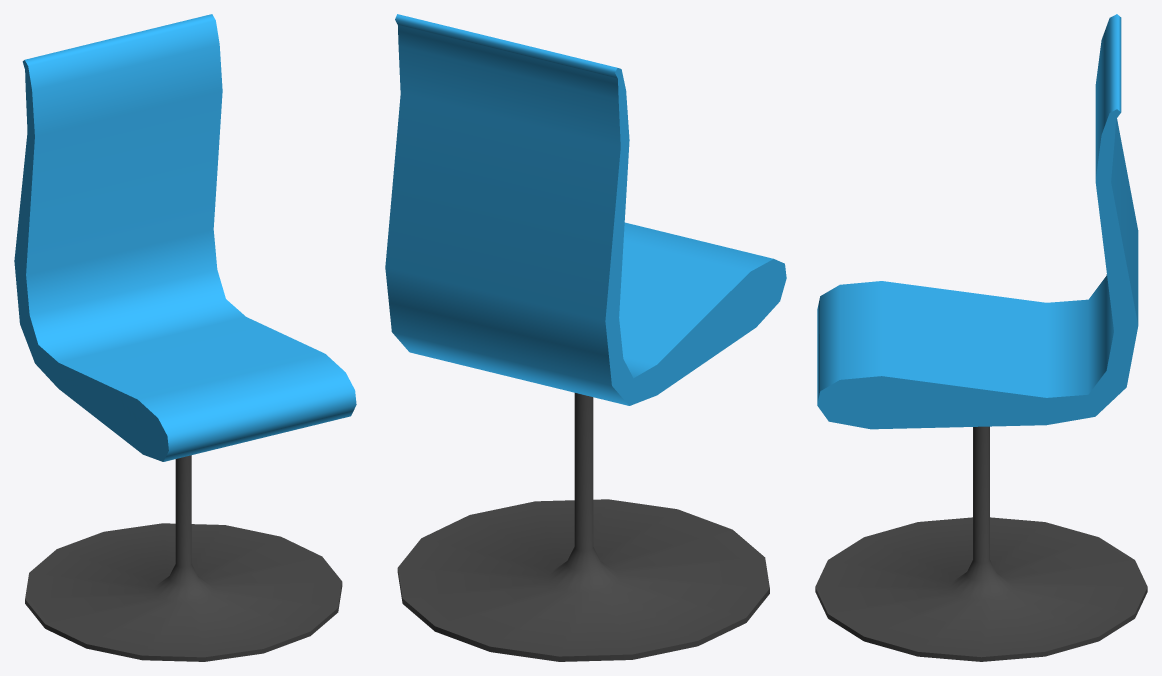
File: Chaise_Bleue.FBX
The picture shows the model from 3 angles, left to right: view 1: azimuth 30°, elevation 25°; view 2: azimuth 150°, elevation 25°; view 3: azimuth 270°, elevation 25°; orthographic projection. The views are drawn at different scales.
Visible parts, largest first — view 1: Cylinder001; view 2: Cylinder001; view 3: Cylinder001.
Part boxes in pixels (<box>): Cylinder001: <box>14,14,356,661</box>; Cylinder001: <box>385,14,786,661</box>; Cylinder001: <box>815,14,1147,661</box>.
Size of the model in its own units: 65.15 by 115 by 65.15.
